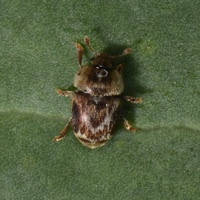insect: (53, 36, 141, 148)
